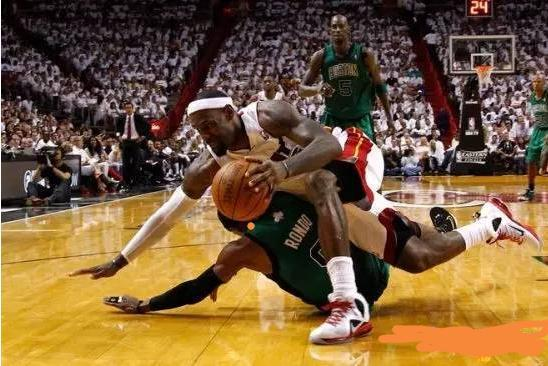10+: (1, 5, 546, 205)
down: (72, 86, 546, 344), (107, 182, 406, 341)
